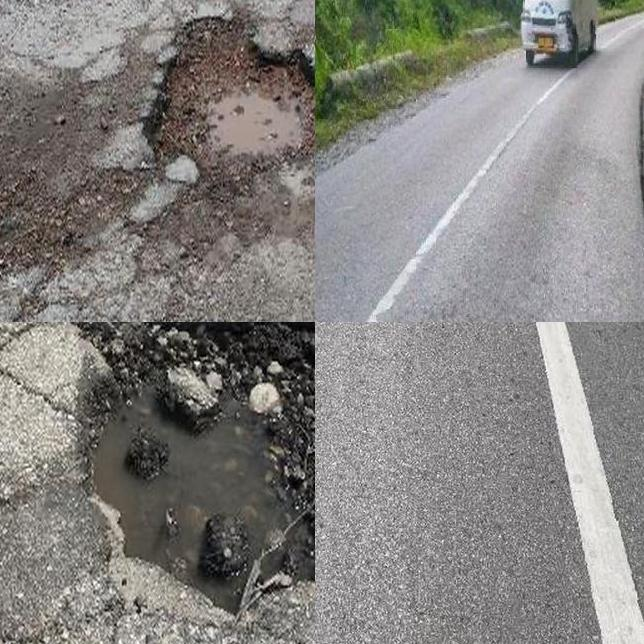Lubang: (81, 322, 315, 621), (153, 23, 315, 184)
